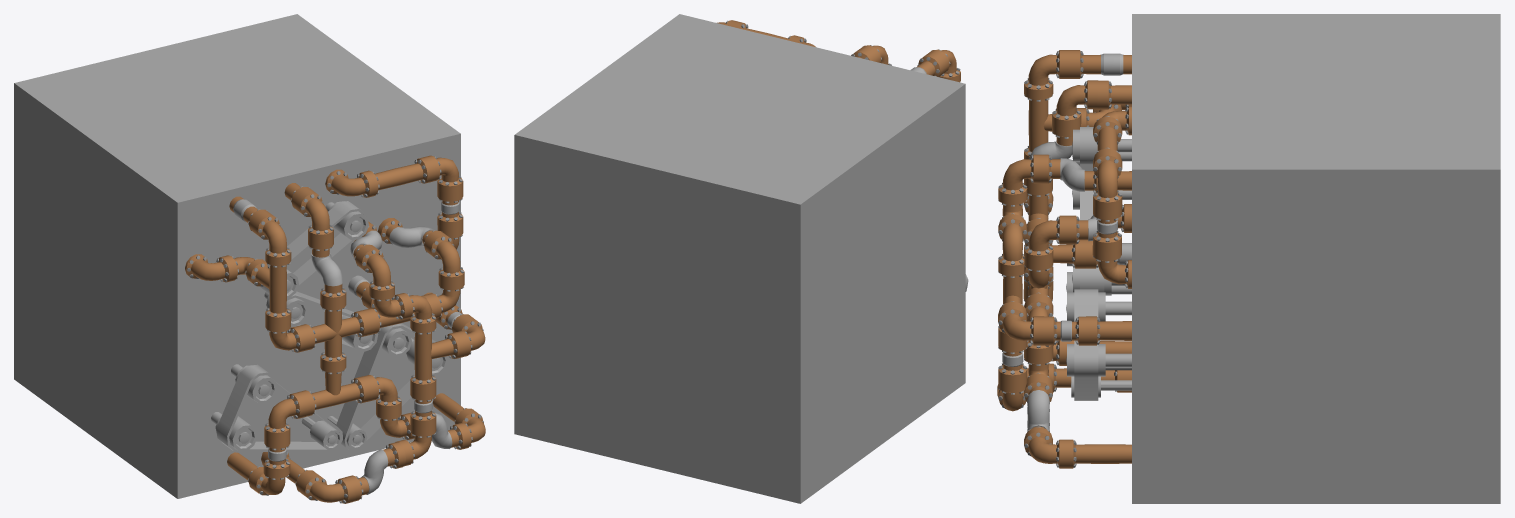
Rendered from gj_wall_002 (broken).fbx.
3 renders of one model, left to right at view 1: azimuth 30°, elevation 25°; view 2: azimuth 150°, elevation 25°; view 3: azimuth 270°, elevation 25°, orthographic. The views are drawn at different scales.
Parts seen in each view (by area): view 1: gj_wall_002; view 2: gj_wall_002; view 3: gj_wall_002.
Part boxes in pixels (left/top/right/bottom): gj_wall_002: left=14, top=14, right=485, bottom=503; gj_wall_002: left=514, top=14, right=968, bottom=503; gj_wall_002: left=997, top=14, right=1500, bottom=503.
Size of the model in its own units: 0.7 by 0.7 by 0.9561.
